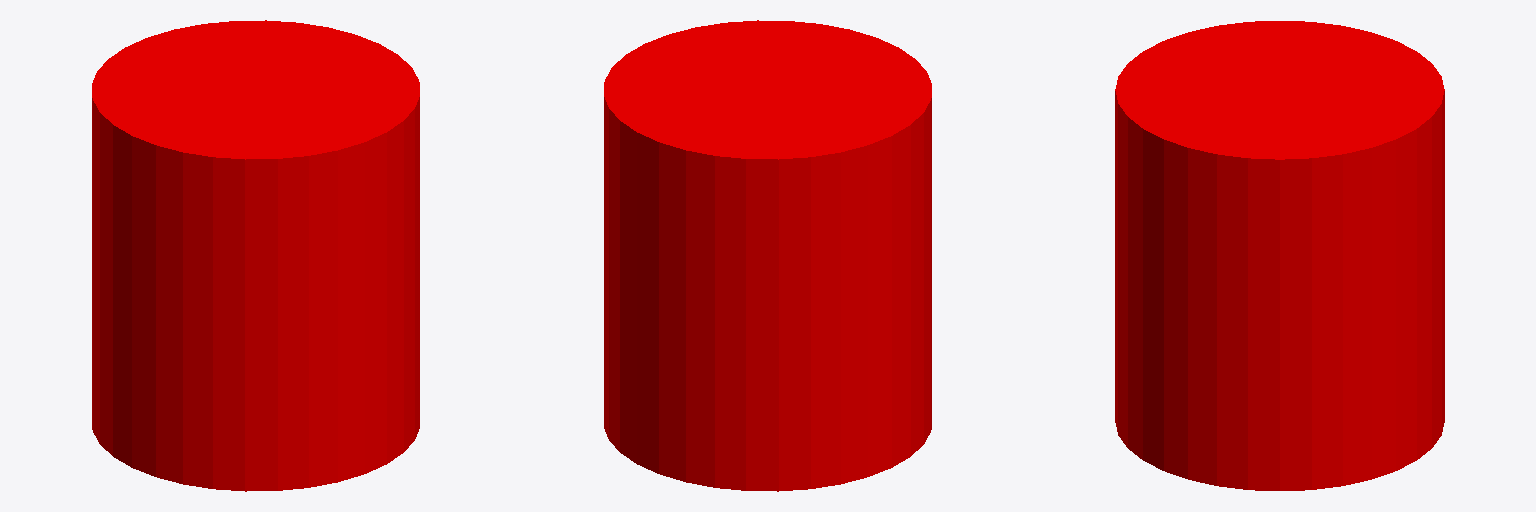
URDF robot description (cube):
<?xml version="1.0" ?>
<robot name="cube">
  <link name="baseLink">
    <contact>
      <lateral_friction value="1.0"/>
      <rolling_friction value="0.0"/>
      <contact_cfm value="0.0"/>
      <contact_erp value="1.0"/>

    </contact>
    <inertial>
      <origin rpy="0 0 0" xyz="0 0 0"/>
       <mass value="1"/>
       <inertia ixx="1" ixy="0" ixz="0" iyy="1" iyz="0" izz="2"/>
    </inertial>
    <visual>
      <origin rpy="0 0 0" xyz="0 0 0"/>
      <geometry>
        <cylinder radius="0.09" length="0.2"/>
      </geometry>
       <material name="red">
        <color rgba="1 0 0 1"/>
      </material>
    </visual>
    <collision>
      <origin rpy="0 0 0" xyz="0 0 0"/>
      <geometry>
	 	<cylinder radius="0.09" length="0.2"/>
      </geometry>
    </collision>
  </link>

</robot>

--- Render facts (derived) ---
3 views of the same robot in one strip: view 1: azimuth 30°, elevation 25°; view 2: azimuth 150°, elevation 25°; view 3: azimuth 270°, elevation 25° (orthographic).
Robot: cube — 1 links, 0 joints (none); root link baseLink; default pose: all joints at 0.
Links seen in each view (by area): view 1: baseLink; view 2: baseLink; view 3: baseLink.
Link boxes in pixels (bbox=[...]): baseLink: bbox=[92, 20, 419, 491]; baseLink: bbox=[604, 20, 931, 491]; baseLink: bbox=[1115, 21, 1444, 490].
Size in the robot's own frame: 0.18 by 0.18 by 0.2 metres.
Geometry: primitives only (box / cylinder / sphere), no mesh files.